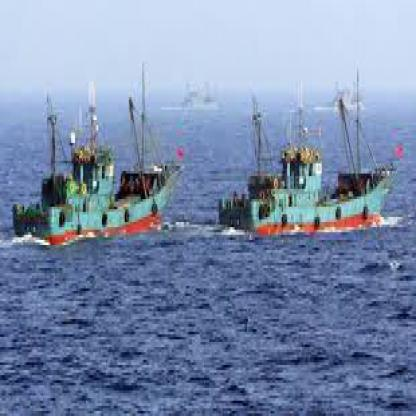fish-b: (213, 79, 411, 263), (16, 69, 193, 260)
